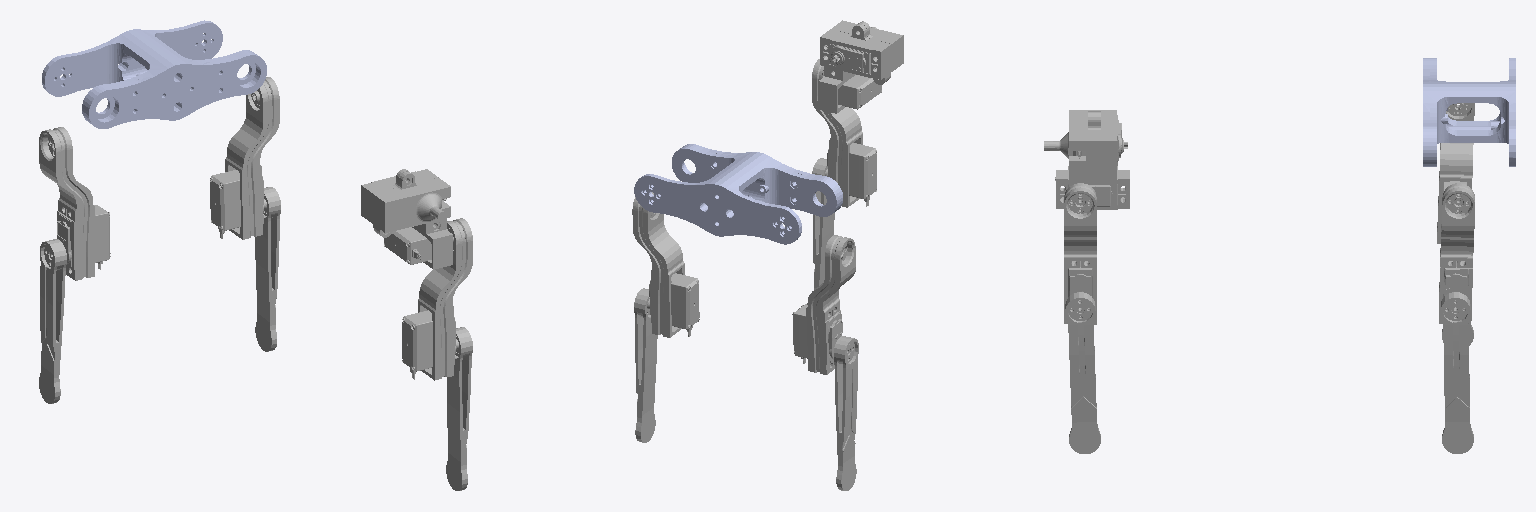
The robot description file, URDF, robot "Whole BODY URDF SET UP":
<?xml version="1.0" encoding="utf-8"?>
<!-- This URDF was automatically created by SolidWorks to URDF Exporter! Originally created by [author] ([email redacted]) 
     Commit Version: 1.6.1-9-gee910b2-dirty  Build Version: 1.6.9034.11310
     For more information, please see http://wiki.ros.org/sw_urdf_exporter -->
<robot
  name="Whole BODY URDF SET UP">
  <link
    name="base_link">
    <inertial>
      <origin
        xyz="-3.79196909459318E-12 -4.73285478137411E-11 1.22993156309946E-05"
        rpy="0 0 0" />
      <mass
        value="0.0712944231487941" />
      <inertia
        ixx="0.000399097163214721"
        ixy="-6.42255535002429E-13"
        ixz="-1.71654257053057E-16"
        iyy="3.100773358623E-05"
        iyz="-3.3241040190076E-15"
        izz="0.000378318474974681" />
    </inertial>
    <visual>
      <origin
        xyz="0 0 0"
        rpy="0 0 0" />
      <geometry>
        <mesh
          filename="package://Whole BODY URDF SET UP/meshes/base_link.STL" />
      </geometry>
      <material
        name="">
        <color
          rgba="0.792156862745098 0.819607843137255 0.933333333333333 1" />
      </material>
    </visual>
    <collision>
      <origin
        xyz="0 0 0"
        rpy="0 0 0" />
      <geometry>
        <mesh
          filename="package://Whole BODY URDF SET UP/meshes/base_link.STL" />
      </geometry>
    </collision>
  </link>
  <link
    name="Front_Hip">
    <inertial>
      <origin
        xyz="-0.0542406994149277 0.0322730422705062 3.74012382937583E-05"
        rpy="0 0 0" />
      <mass
        value="0.121414931103108" />
      <inertia
        ixx="0.000104658493106656"
        ixy="-5.87910724622098E-13"
        ixz="-4.97582005480662E-12"
        iyy="9.3656901814943E-05"
        iyz="2.09107841059153E-08"
        izz="0.000157485606415984" />
    </inertial>
    <visual>
      <origin
        xyz="0 0 0"
        rpy="0 0 0" />
      <geometry>
        <mesh
          filename="package://Whole BODY URDF SET UP/meshes/Front_Hip.STL" />
      </geometry>
      <material
        name="">
        <color
          rgba="0.792156862745098 0.819607843137255 0.933333333333333 1" />
      </material>
    </visual>
    <collision>
      <origin
        xyz="0 0 0"
        rpy="0 0 0" />
      <geometry>
        <mesh
          filename="package://Whole BODY URDF SET UP/meshes/Front_Hip.STL" />
      </geometry>
    </collision>
  </link>
  <joint
    name="Front_Hip"
    type="fixed">
    <origin
      xyz="0.0542407007709616 0.1149985 5.35317635531158E-05"
      rpy="0 0 0" />
    <parent
      link="base_link" />
    <child
      link="Front_Hip" />
    <axis
      xyz="0 0 0" />
  </joint>
  <link
    name="Front_Left_Shoulder">
    <inertial>
      <origin
        xyz="0.0137739851795441 -0.0125083167030698 -0.0391386009814933"
        rpy="0 0 0" />
      <mass
        value="0.140436940047647" />
      <inertia
        ixx="2.80379795093138E-05"
        ixy="5.40046079082896E-07"
        ixz="5.83190778717265E-09"
        iyy="4.80687439403981E-05"
        iyz="1.13010403668755E-07"
        izz="4.46905233653811E-05" />
    </inertial>
    <visual>
      <origin
        xyz="0 0 0"
        rpy="0 0 0" />
      <geometry>
        <mesh
          filename="package://Whole BODY URDF SET UP/meshes/Front_Left_Shoulder.STL" />
      </geometry>
      <material
        name="">
        <color
          rgba="0.752941176470588 0.752941176470588 0.752941176470588 1" />
      </material>
    </visual>
    <collision>
      <origin
        xyz="0 0 0"
        rpy="0 0 0" />
      <geometry>
        <mesh
          filename="package://Whole BODY URDF SET UP/meshes/Front_Left_Shoulder.STL" />
      </geometry>
    </collision>
  </link>
  <joint
    name="Front_Left_Shoulder"
    type="revolute">
    <origin
      xyz="-0.118561401541924 0 0"
      rpy="1.5707963267949 -0.0365489253746626 0" />
    <parent
      link="Front_Hip" />
    <child
      link="Front_Left_Shoulder" />
    <axis
      xyz="0 0 1" />
    <limit
      lower="-1.57"
      upper="1.57"
      effort="0"
      velocity="0" />
  </joint>
  <link
    name="Front_Left_Upper_Leg">
    <inertial>
      <origin
        xyz="-0.0138284683520782 -0.0347803760409055 0.0524397996972768"
        rpy="0 0 0" />
      <mass
        value="0.0622185374309281" />
      <inertia
        ixx="3.95026604801634E-05"
        ixy="3.21197098204208E-06"
        ixz="-4.52317416236056E-06"
        iyy="3.18332810578734E-05"
        iyz="1.54040416736055E-05"
        izz="2.00120493351569E-05" />
    </inertial>
    <visual>
      <origin
        xyz="0 0 0"
        rpy="0 0 0" />
      <geometry>
        <mesh
          filename="package://Whole BODY URDF SET UP/meshes/Front_Left_Upper_Leg.STL" />
      </geometry>
      <material
        name="">
        <color
          rgba="0.752941176470588 0.752941176470588 0.752941176470588 1" />
      </material>
    </visual>
    <collision>
      <origin
        xyz="0 0 0"
        rpy="0 0 0" />
      <geometry>
        <mesh
          filename="package://Whole BODY URDF SET UP/meshes/Front_Left_Upper_Leg.STL" />
      </geometry>
    </collision>
  </link>
  <joint
    name="Front_Left_Upper_Leg"
    type="revolute">
    <origin
      xyz="-0.00185531578486946 -0.0359521599259129 -0.0287921500156247"
      rpy="0.940540322874895 -0.0416664486626156 -0.0211815707953396" />
    <parent
      link="Front_Left_Shoulder" />
    <child
      link="Front_Left_Upper_Leg" />
    <axis
      xyz="0.998671109053135 -0.0515365495797057 0" />
    <limit
      lower="-1.57"
      upper="1.57"
      effort="0"
      velocity="0" />
  </joint>
  <link
    name="Front_Left_Lower_Leg">
    <inertial>
      <origin
        xyz="-0.0136277736994216 -0.0505339035503838 -0.0279236330848666"
        rpy="0 0 0" />
      <mass
        value="0.0155256621613376" />
      <inertia
        ixx="2.38562608052699E-05"
        ixy="-8.45654826936085E-07"
        ixz="-4.48322423480095E-07"
        iyy="5.96509335753058E-06"
        iyz="-9.5310841114569E-06"
        izz="1.82031583320902E-05" />
    </inertial>
    <visual>
      <origin
        xyz="0 0 0"
        rpy="0 0 0" />
      <geometry>
        <mesh
          filename="package://Whole BODY URDF SET UP/meshes/Front_Left_Lower_Leg.STL" />
      </geometry>
      <material
        name="">
        <color
          rgba="0.752941176470588 0.752941176470588 0.752941176470588 1" />
      </material>
    </visual>
    <collision>
      <origin
        xyz="0 0 0"
        rpy="0 0 0" />
      <geometry>
        <mesh
          filename="package://Whole BODY URDF SET UP/meshes/Front_Left_Lower_Leg.STL" />
      </geometry>
    </collision>
  </link>
  <joint
    name="Front_Left_Lower_Leg"
    type="revolute">
    <origin
      xyz="-0.0239845511436166 -0.0511939313025561 0.0774627196076526"
      rpy="-1.41646272232564 0.0509476316630302 -0.0436370237871092" />
    <parent
      link="Front_Left_Upper_Leg" />
    <child
      link="Front_Left_Lower_Leg" />
    <axis
      xyz="0.998671109053135 -0.0515365495797045 0" />
    <limit
      lower="-1.57"
      upper="1.57"
      effort="0"
      velocity="0" />
  </joint>
  <link
    name="Front_Right_Shoulder">
    <inertial>
      <origin
        xyz="-0.00461374227477766 -0.0147975561386528 -0.0391253002509455"
        rpy="0 0 0" />
      <mass
        value="0.107869096375755" />
      <inertia
        ixx="2.22394596492883E-05"
        ixy="4.94574385861689E-07"
        ixz="-2.34396356728712E-07"
        iyy="3.46102501709838E-05"
        iyz="-4.77724670579523E-08"
        izz="2.85445263842194E-05" />
    </inertial>
    <visual>
      <origin
        xyz="0 0 0"
        rpy="0 0 0" />
      <geometry>
        <mesh
          filename="package://Whole BODY URDF SET UP/meshes/Front_Right_Shoulder.STL" />
      </geometry>
      <material
        name="">
        <color
          rgba="0.752941176470588 0.752941176470588 0.752941176470588 1" />
      </material>
    </visual>
    <collision>
      <origin
        xyz="0 0 0"
        rpy="0 0 0" />
      <geometry>
        <mesh
          filename="package://Whole BODY URDF SET UP/meshes/Front_Right_Shoulder.STL" />
      </geometry>
    </collision>
  </link>
  <joint
    name="Front_Right_Shoulder"
    type="revolute">
    <origin
      xyz="0.01 0 0"
      rpy="1.5707963267949 0 0" />
    <parent
      link="Front_Hip" />
    <child
      link="Front_Right_Shoulder" />
    <axis
      xyz="0 0 1" />
    <limit
      lower="-1.57"
      upper="1.57"
      effort="0"
      velocity="0" />
  </joint>
  <link
    name="Front_Right_Upper_Leg">
    <inertial>
      <origin
        xyz="0.0145550029225172 -0.0502252403253611 0.025931874412354"
        rpy="0 0 0" />
      <mass
        value="0.0933622190352868" />
      <inertia
        ixx="7.29830992475442E-05"
        ixy="-1.14286741887544E-05"
        ixz="5.90010671510385E-06"
        iyy="2.77722077001298E-05"
        iyz="2.526024805234E-05"
        izz="6.36533679052227E-05" />
    </inertial>
    <visual>
      <origin
        xyz="0 0 0"
        rpy="0 0 0" />
      <geometry>
        <mesh
          filename="package://Whole BODY URDF SET UP/meshes/Front_Right_Upper_Leg.STL" />
      </geometry>
      <material
        name="">
        <color
          rgba="0.752941176470588 0.752941176470588 0.752941176470588 1" />
      </material>
    </visual>
    <collision>
      <origin
        xyz="0 0 0"
        rpy="0 0 0" />
      <geometry>
        <mesh
          filename="package://Whole BODY URDF SET UP/meshes/Front_Right_Upper_Leg.STL" />
      </geometry>
    </collision>
  </link>
  <joint
    name="Front_Right_Upper_Leg"
    type="revolute">
    <origin
      xyz="0 -0.0359999999999964 -0.0290450000000011"
      rpy="0.449742756146675 0 0" />
    <parent
      link="Front_Right_Shoulder" />
    <child
      link="Front_Right_Upper_Leg" />
    <axis
      xyz="1 0 0" />
    <limit
      lower="-1.57"
      upper="1.57"
      effort="0"
      velocity="0" />
  </joint>
  <link
    name="Front_Right_Lower_Leg">
    <inertial>
      <origin
        xyz="0.00576780968735226 -0.0400146670662195 -0.03842906672573"
        rpy="0 0 0" />
      <mass
        value="0.01631288240346" />
      <inertia
        ixx="2.39312087583388E-05"
        ixy="-6.54525511951302E-08"
        ixz="-6.28595038448721E-08"
        iyy="1.16247328034003E-05"
        iyz="-1.1336330395926E-05"
        izz="1.25417009886083E-05" />
    </inertial>
    <visual>
      <origin
        xyz="0 0 0"
        rpy="0 0 0" />
      <geometry>
        <mesh
          filename="package://Whole BODY URDF SET UP/meshes/Front_Right_Lower_Leg.STL" />
      </geometry>
      <material
        name="">
        <color
          rgba="0.752941176470588 0.752941176470588 0.752941176470588 1" />
      </material>
    </visual>
    <collision>
      <origin
        xyz="0 0 0"
        rpy="0 0 0" />
      <geometry>
        <mesh
          filename="package://Whole BODY URDF SET UP/meshes/Front_Right_Lower_Leg.STL" />
      </geometry>
    </collision>
  </link>
  <joint
    name="Front_Right_Lower_Leg"
    type="revolute">
    <origin
      xyz="0.0265392992290382 -0.0830793712108725 0.0428960147240504"
      rpy="-1.19874044905665 0 0" />
    <parent
      link="Front_Right_Upper_Leg" />
    <child
      link="Front_Right_Lower_Leg" />
    <axis
      xyz="1 0 0" />
    <limit
      lower="-1.57"
      upper="1.57"
      effort="0"
      velocity="0" />
  </joint>
  <link
    name="Back_Hip">
    <inertial>
      <origin
        xyz="-0.0542406994149277 0.0322730422705062 3.74012382937617E-05"
        rpy="0 0 0" />
      <mass
        value="0.121414931103108" />
      <inertia
        ixx="0.000104658493106656"
        ixy="-5.87910763770902E-13"
        ixz="-4.9758199155276E-12"
        iyy="9.36569018149431E-05"
        iyz="2.09107841058601E-08"
        izz="0.000157485606415984" />
    </inertial>
    <visual>
      <origin
        xyz="0 0 0"
        rpy="0 0 0" />
      <geometry>
        <mesh
          filename="package://Whole BODY URDF SET UP/meshes/Back_Hip.STL" />
      </geometry>
      <material
        name="">
        <color
          rgba="0.792156862745098 0.819607843137255 0.933333333333333 1" />
      </material>
    </visual>
    <collision>
      <origin
        xyz="0 0 0"
        rpy="0 0 0" />
      <geometry>
        <mesh
          filename="package://Whole BODY URDF SET UP/meshes/Back_Hip.STL" />
      </geometry>
    </collision>
  </link>
  <joint
    name="Back_Hip"
    type="fixed">
    <origin
      xyz="0.0542407007709615 -0.1897985 5.35317635530875E-05"
      rpy="0 0 0" />
    <parent
      link="base_link" />
    <child
      link="Back_Hip" />
    <axis
      xyz="0 0 0" />
  </joint>
  <link
    name="Back_Right_Shoulder">
    <inertial>
      <origin
        xyz="-0.00461374227477765 -0.0147975561386528 -0.0391253002509454"
        rpy="0 0 0" />
      <mass
        value="0.107869096375755" />
      <inertia
        ixx="2.22394596492883E-05"
        ixy="4.9457438586169E-07"
        ixz="-2.34396356728709E-07"
        iyy="3.46102501709838E-05"
        iyz="-4.77724670579598E-08"
        izz="2.85445263842194E-05" />
    </inertial>
    <visual>
      <origin
        xyz="0 0 0"
        rpy="0 0 0" />
      <geometry>
        <mesh
          filename="package://Whole BODY URDF SET UP/meshes/Back_Right_Shoulder.STL" />
      </geometry>
      <material
        name="">
        <color
          rgba="0.752941176470588 0.752941176470588 0.752941176470588 1" />
      </material>
    </visual>
    <collision>
      <origin
        xyz="0 0 0"
        rpy="0 0 0" />
      <geometry>
        <mesh
          filename="package://Whole BODY URDF SET UP/meshes/Back_Right_Shoulder.STL" />
      </geometry>
    </collision>
  </link>
  <joint
    name="Back_Right_Shoulder"
    type="revolute">
    <origin
      xyz="0.01 0 0"
      rpy="1.5707963267949 0 0" />
    <parent
      link="Back_Hip" />
    <child
      link="Back_Right_Shoulder" />
    <axis
      xyz="0 0 1" />
    <limit
      lower="-1.57"
      upper="1.57"
      effort="0"
      velocity="0" />
  </joint>
  <link
    name="Back_Right_Upper_Leg">
    <inertial>
      <origin
        xyz="0.0145550053982749 -0.0502252420931474 0.0259318753093942"
        rpy="0 0 0" />
      <mass
        value="0.0933621516301469" />
      <inertia
        ixx="7.29830746154553E-05"
        ixy="-1.14286631416169E-05"
        ixz="5.90010372776624E-06"
        iyy="2.77721811223266E-05"
        iyz="2.52602439633051E-05"
        izz="6.36533220616484E-05" />
    </inertial>
    <visual>
      <origin
        xyz="0 0 0"
        rpy="0 0 0" />
      <geometry>
        <mesh
          filename="package://Whole BODY URDF SET UP/meshes/Back_Right_Upper_Leg.STL" />
      </geometry>
      <material
        name="">
        <color
          rgba="0.752941176470588 0.752941176470588 0.752941176470588 1" />
      </material>
    </visual>
    <collision>
      <origin
        xyz="0 0 0"
        rpy="0 0 0" />
      <geometry>
        <mesh
          filename="package://Whole BODY URDF SET UP/meshes/Back_Right_Upper_Leg.STL" />
      </geometry>
    </collision>
  </link>
  <joint
    name="Back_Right_Upper_Leg"
    type="revolute">
    <origin
      xyz="0 -0.0360000000000002 -0.0290449999999998"
      rpy="0.475650962623188 0 0" />
    <parent
      link="Back_Right_Shoulder" />
    <child
      link="Back_Right_Upper_Leg" />
    <axis
      xyz="1 0 0" />
    <limit
      lower="-1.57"
      upper="1.57"
      effort="0"
      velocity="0" />
  </joint>
  <link
    name="Back_Right_Lower_Leg">
    <inertial>
      <origin
        xyz="0.00576780968178837 -0.0400146670657065 -0.0384290667120226"
        rpy="0 0 0" />
      <mass
        value="0.0163128824062683" />
      <inertia
        ixx="2.39312087567438E-05"
        ixy="-6.54525438879936E-08"
        ixz="-6.28594972194673E-08"
        iyy="1.16247328025623E-05"
        iyz="-1.13363303950864E-05"
        izz="1.2541700987751E-05" />
    </inertial>
    <visual>
      <origin
        xyz="0 0 0"
        rpy="0 0 0" />
      <geometry>
        <mesh
          filename="package://Whole BODY URDF SET UP/meshes/Back_Right_Lower_Leg.STL" />
      </geometry>
      <material
        name="">
        <color
          rgba="0.752941176470588 0.752941176470588 0.752941176470588 1" />
      </material>
    </visual>
    <collision>
      <origin
        xyz="0 0 0"
        rpy="0 0 0" />
      <geometry>
        <mesh
          filename="package://Whole BODY URDF SET UP/meshes/Back_Right_Lower_Leg.STL" />
      </geometry>
    </collision>
  </link>
  <joint
    name="Back_Right_Lower_Leg"
    type="revolute">
    <origin
      xyz="0.0265392992290382 -0.0830793712108724 0.0428960147240505"
      rpy="-1.20853606323344 0 0" />
    <parent
      link="Back_Right_Upper_Leg" />
    <child
      link="Back_Right_Lower_Leg" />
    <axis
      xyz="1 0 0" />
    <limit
      lower="-1.57"
      upper="1.57"
      effort="0"
      velocity="0" />
  </joint>
  <link
    name="Back_Left_Shoulder">
    <inertial>
      <origin
        xyz="0.0127590396351129 -0.013542066416756 -0.0391386009725268"
        rpy="0 0 0" />
      <mass
        value="0.140436940239167" />
      <inertia
        ixx="2.8243014244986E-05"
        ixy="2.08724991635799E-06"
        ixz="1.46068585646496E-08"
        iyy="4.78637093003705E-05"
        iyz="1.12214075389823E-07"
        izz="4.46905233935649E-05" />
    </inertial>
    <visual>
      <origin
        xyz="0 0 0"
        rpy="0 0 0" />
      <geometry>
        <mesh
          filename="package://Whole BODY URDF SET UP/meshes/Back_Left_Shoulder.STL" />
      </geometry>
      <material
        name="">
        <color
          rgba="0.752941176470588 0.752941176470588 0.752941176470588 1" />
      </material>
    </visual>
    <collision>
      <origin
        xyz="0 0 0"
        rpy="0 0 0" />
      <geometry>
        <mesh
          filename="package://Whole BODY URDF SET UP/meshes/Back_Left_Shoulder.STL" />
      </geometry>
    </collision>
  </link>
  <joint
    name="Back_Left_Shoulder"
    type="revolute">
    <origin
      xyz="-0.118561401541923 0 0"
      rpy="1.5707963267949 -0.0348277893882829 0" />
    <parent
      link="Back_Hip" />
    <child
      link="Back_Left_Shoulder" />
    <axis
      xyz="0 0 1" />
    <limit
      lower="-1.57"
      upper="1.57"
      effort="0"
      velocity="0" />
  </joint>
  <link
    name="Back_Left_Upper_Leg">
    <inertial>
      <origin
        xyz="-0.0214717435366657 -0.0336927352823517 0.0514158375828852"
        rpy="0 0 0" />
      <mass
        value="0.0622185882062138" />
      <inertia
        ixx="4.01805826515789E-05"
        ixy="1.84404538285222E-06"
        ixz="-2.5538347752028E-06"
        iyy="3.17158653112572E-05"
        iyz="1.56818019391028E-05"
        izz="1.94515615002159E-05" />
    </inertial>
    <visual>
      <origin
        xyz="0 0 0"
        rpy="0 0 0" />
      <geometry>
        <mesh
          filename="package://Whole BODY URDF SET UP/meshes/Back_Left_Upper_Leg.STL" />
      </geometry>
      <material
        name="">
        <color
          rgba="0.752941176470588 0.752941176470588 0.752941176470588 1" />
      </material>
    </visual>
    <collision>
      <origin
        xyz="0 0 0"
        rpy="0 0 0" />
      <geometry>
        <mesh
          filename="package://Whole BODY URDF SET UP/meshes/Back_Left_Upper_Leg.STL" />
      </geometry>
    </collision>
  </link>
  <joint
    name="Back_Left_Upper_Leg"
    type="revolute">
    <origin
      xyz="-0.00185531578486944 -0.0359521599259134 -0.0287921500156243"
      rpy="0.975683784629328 -0.0427074689558667 -0.0226638793301015" />
    <parent
      link="Back_Left_Shoulder" />
    <child
      link="Back_Left_Upper_Leg" />
    <axis
      xyz="0.998671109053135 -0.0515365495797065 0" />
    <limit
      lower="-1.57"
      upper="1.57"
      effort="0"
      velocity="0" />
  </joint>
  <link
    name="Back_Left_Lower_Leg">
    <inertial>
      <origin
        xyz="-0.0277861203569904 -0.04705867304066 -0.0265100084577737"
        rpy="0 0 0" />
      <mass
        value="0.0155256835027543" />
      <inertia
        ixx="2.35685073782154E-05"
        ixy="-2.40477099117039E-06"
        ixz="-1.30532111716224E-06"
        iyy="6.22559991503217E-06"
        iyz="-9.43470924733843E-06"
        izz="1.82311003328971E-05" />
    </inertial>
    <visual>
      <origin
        xyz="0 0 0"
        rpy="0 0 0" />
      <geometry>
        <mesh
          filename="package://Whole BODY URDF SET UP/meshes/Back_Left_Lower_Leg.STL" />
      </geometry>
      <material
        name="">
        <color
          rgba="0.752941176470588 0.752941176470588 0.752941176470588 1" />
      </material>
    </visual>
    <collision>
      <origin
        xyz="0 0 0"
        rpy="0 0 0" />
      <geometry>
        <mesh
          filename="package://Whole BODY URDF SET UP/meshes/Back_Left_Lower_Leg.STL" />
      </geometry>
    </collision>
  </link>
  <joint
    name="Back_Left_Lower_Leg"
    type="revolute">
    <origin
      xyz="-0.0241773638448891 -0.0511839811785878 0.0774627196076527"
      rpy="-1.45230650530627 0.051198504725547 -0.0454670754420785" />
    <parent
      link="Back_Left_Upper_Leg" />
    <child
      link="Back_Left_Lower_Leg" />
    <axis
      xyz="0.998671109053135 -0.0515365495797041 0" />
    <limit
      lower="-1.57"
      upper="1.57"
      effort="0"
      velocity="0" />
  </joint>
</robot>

--- Facts derived from the render (not from the file) ---
Views: 3 orthographic renders of the robot side by side, from view 1: azimuth 30°, elevation 25°; view 2: azimuth 150°, elevation 25°; view 3: azimuth 270°, elevation 25°.
Robot: Whole BODY URDF SET UP — 15 links, 14 joints (12 revolute, 2 fixed); root link base_link; default pose: all joints at 0.
Links seen in each view (by area): view 1: Front_Hip, Back_Right_Shoulder, Front_Right_Upper_Leg, Back_Right_Upper_Leg, Front_Left_Upper_Leg, Front_Left_Lower_Leg, Front_Right_Lower_Leg, Back_Right_Lower_Leg; view 2: Front_Hip, Back_Right_Shoulder, Front_Right_Upper_Leg, Front_Left_Upper_Leg, Back_Right_Upper_Leg, Front_Left_Lower_Leg, Front_Right_Lower_Leg, Back_Right_Lower_Leg; view 3: Front_Hip, Back_Right_Shoulder, Back_Right_Lower_Leg, Front_Right_Lower_Leg, Front_Right_Upper_Leg, Back_Right_Upper_Leg, Front_Left_Upper_Leg.
Link boxes in pixels (bbox=[...]): Front_Hip: bbox=[42, 20, 266, 128]; Back_Right_Shoulder: bbox=[361, 169, 452, 269]; Front_Right_Upper_Leg: bbox=[210, 77, 279, 239]; Back_Right_Upper_Leg: bbox=[402, 218, 472, 380]; Front_Left_Upper_Leg: bbox=[39, 127, 110, 280]; Front_Left_Lower_Leg: bbox=[39, 239, 66, 403]; Front_Right_Lower_Leg: bbox=[255, 187, 280, 351]; Back_Right_Lower_Leg: bbox=[446, 327, 472, 490]; Front_Hip: bbox=[634, 144, 842, 244]; Back_Right_Shoulder: bbox=[818, 20, 903, 113]; Front_Right_Upper_Leg: bbox=[632, 192, 699, 337]; Front_Left_Upper_Leg: bbox=[792, 235, 855, 374]; Back_Right_Upper_Leg: bbox=[812, 59, 876, 207]; Front_Left_Lower_Leg: bbox=[834, 336, 858, 490]; Front_Right_Lower_Leg: bbox=[634, 288, 657, 442]; Back_Right_Lower_Leg: bbox=[812, 158, 834, 289]; Front_Hip: bbox=[1423, 58, 1515, 166]; Back_Right_Shoulder: bbox=[1044, 110, 1129, 209]; Back_Right_Lower_Leg: bbox=[1065, 292, 1100, 453]; Front_Right_Lower_Leg: bbox=[1441, 292, 1473, 453]; Front_Right_Upper_Leg: bbox=[1439, 183, 1474, 324]; Back_Right_Upper_Leg: bbox=[1064, 183, 1096, 324]; Front_Left_Upper_Leg: bbox=[1437, 103, 1474, 243].
Size in the robot's own frame: 0.2067 by 0.3796 by 0.2833 metres.
Meshes: 15 distinct files referenced, 8 mesh visuals loaded (8 binary STL); not drawn: 7 (reference not matched to a file when rendering).